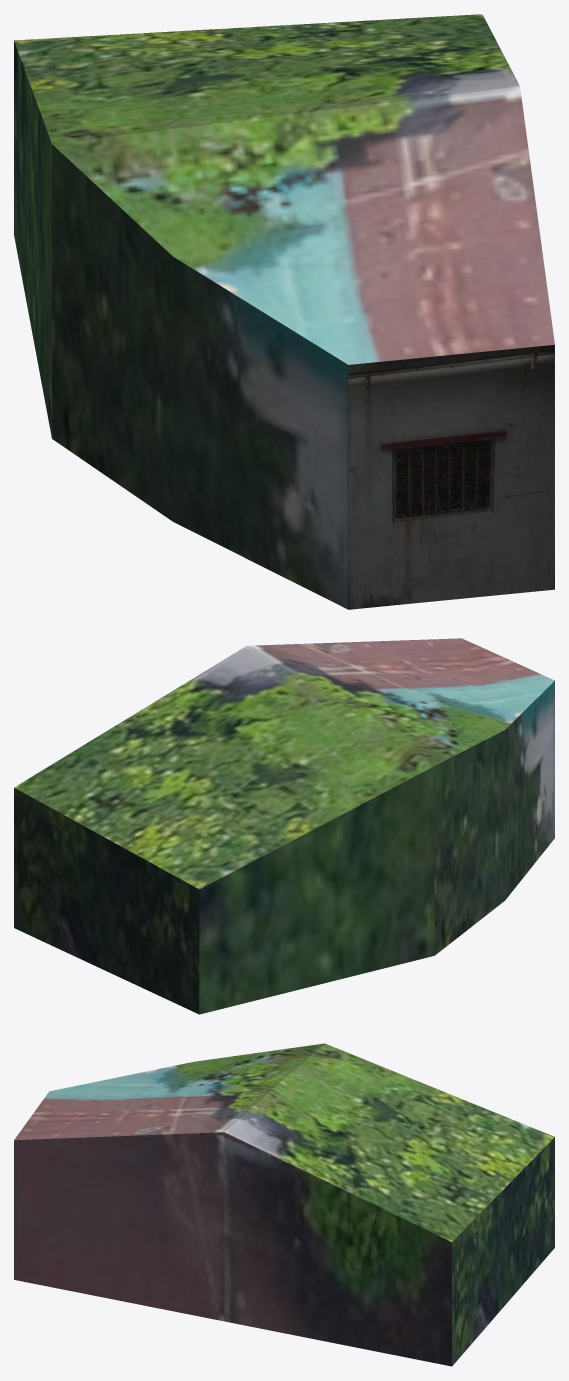
3 views of the same model, one above another, from view 1: azimuth 30°, elevation 25°; view 2: azimuth 150°, elevation 25°; view 3: azimuth 270°, elevation 25° (orthographic). The views are drawn at different scales.
Visible parts, largest first — view 1: B286044046201062A0; view 2: B286044046201062A0; view 3: B286044046201062A0.
Part boxes in pixels (x1,y1,x2,y2): B286044046201062A0: [14, 14, 554, 609]; B286044046201062A0: [14, 638, 554, 1014]; B286044046201062A0: [14, 1043, 554, 1366].
Bounding box in the file's own units: 7.34 × 4.3 × 11.13.
Materials: 2 (2 with a texture image).
